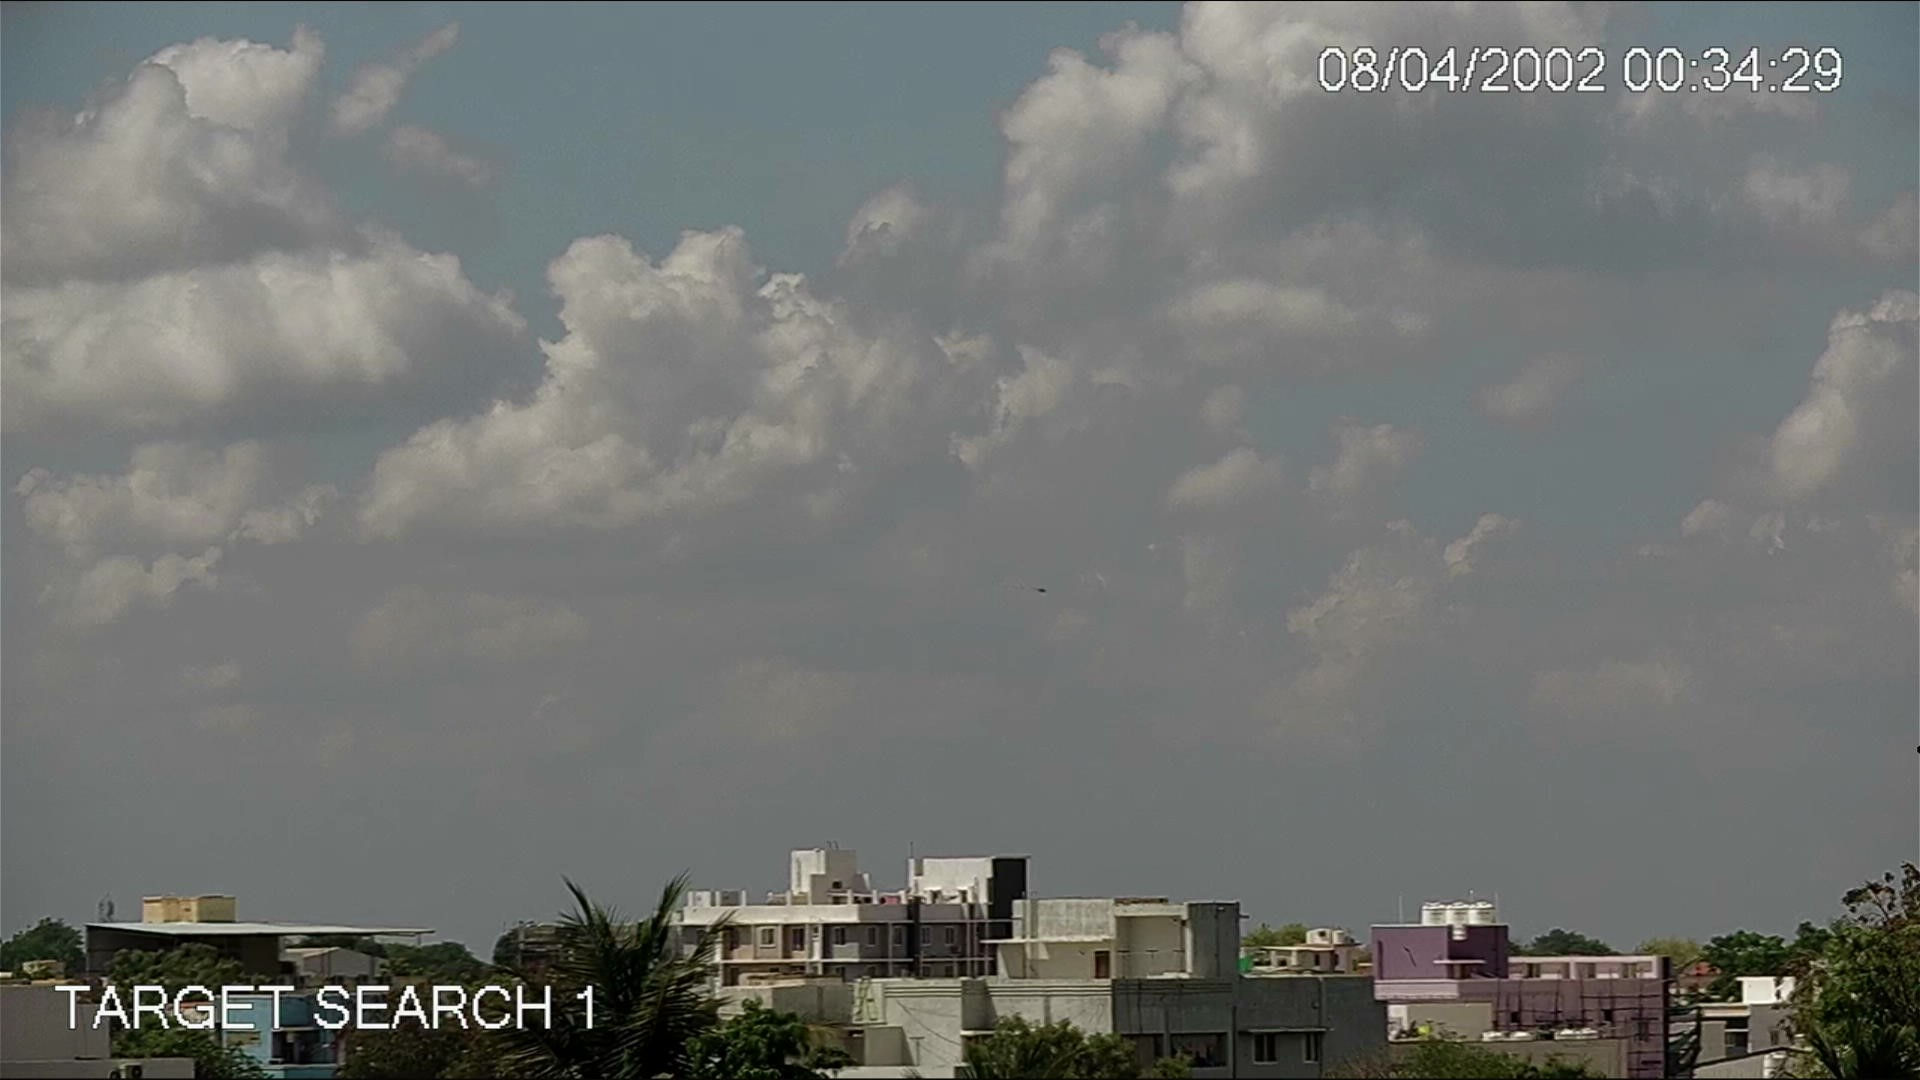SU_30: (1030, 585, 1048, 595)
